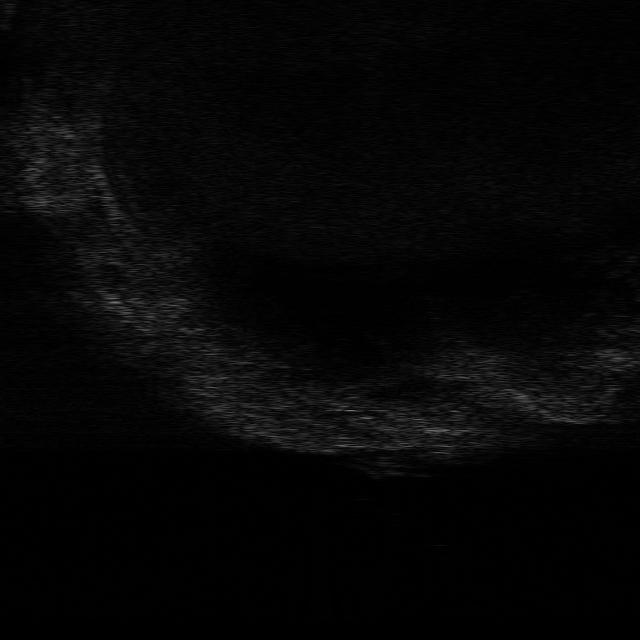plane: (341, 452, 431, 480)
